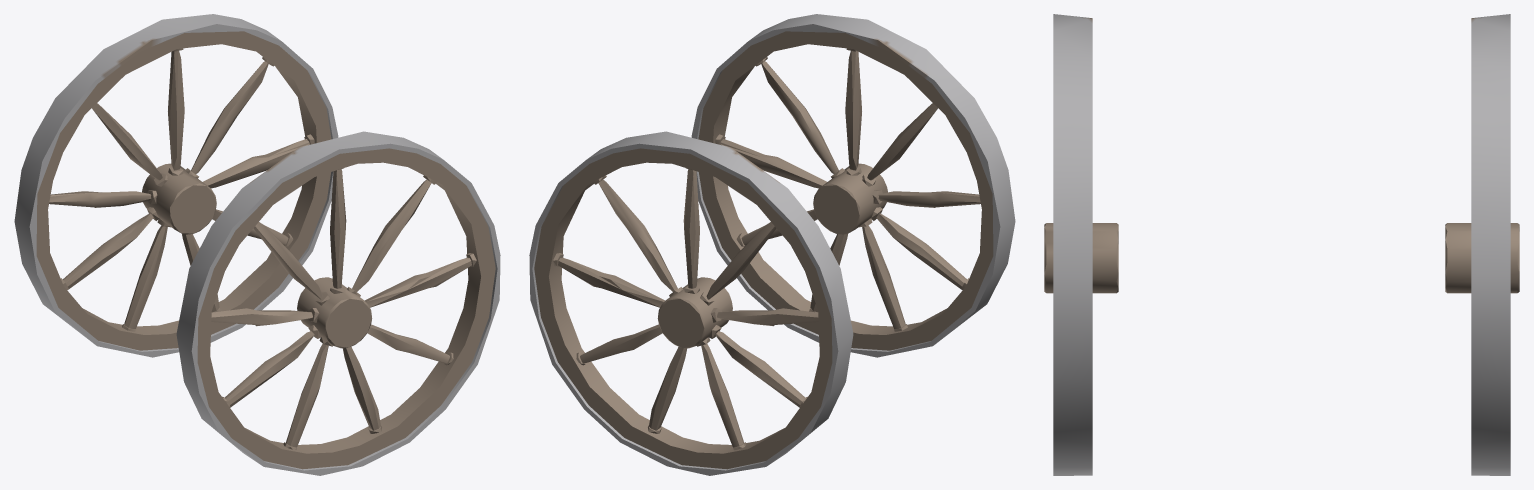
The model's file is redcanonwheel.fbx.
The picture shows the model from 3 angles, left to right: view 1: azimuth 30°, elevation 25°; view 2: azimuth 150°, elevation 25°; view 3: azimuth 270°, elevation 25°; orthographic projection. The views are drawn at different scales.
Parts seen in each view (by area): view 1: canonv2wheels; view 2: canonv2wheels; view 3: canonv2wheels.
Boxes of the visible parts, <box> form: canonv2wheels: <box>14,14,500,475</box>; canonv2wheels: <box>529,14,1015,475</box>; canonv2wheels: <box>1044,14,1519,475</box>.
Bounding box in the file's own units: 281 × 281 × 290.
1 material, 1 textured.
